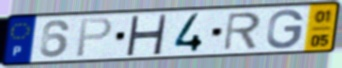4: (172, 12, 206, 54)
6: (38, 19, 73, 59)
G: (265, 8, 306, 50)
H: (123, 14, 169, 56)
P: (74, 16, 114, 59)
R: (222, 11, 264, 52)
